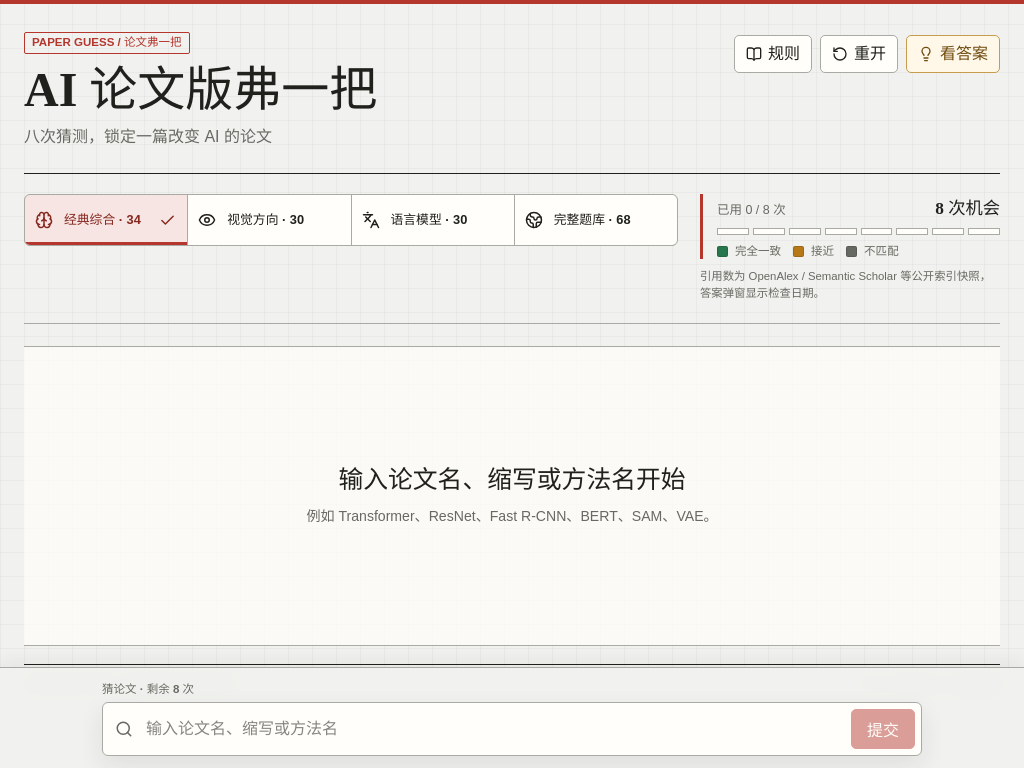
Test: GamePage › closes dialogs with Escape
Click the button "规则" at (773, 54), box [734,35,812,73]
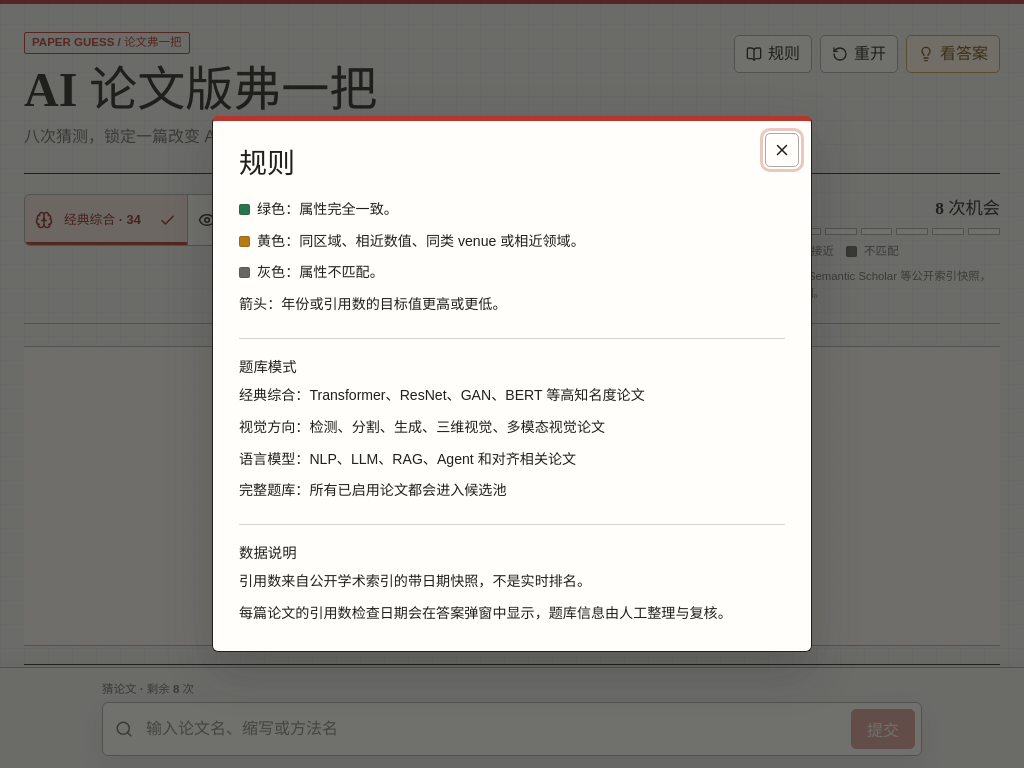
Check: the dialog named "游戏规则" is shown, box [212,116,812,652]
Press Escape
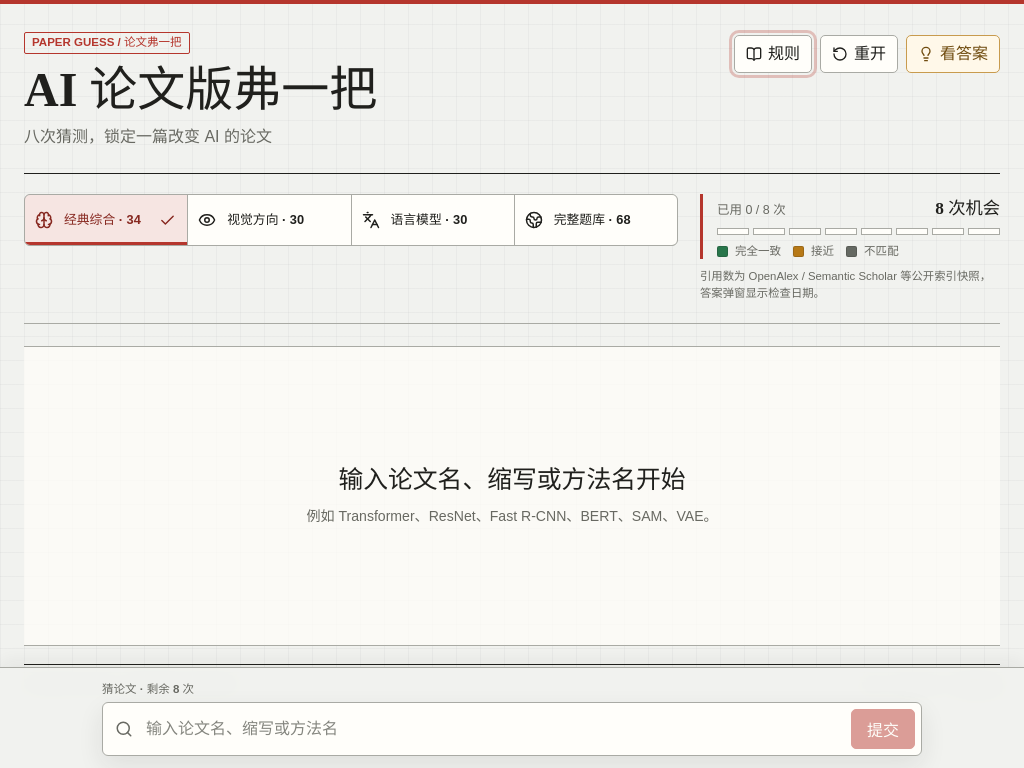
Check: the dialog "游戏规则" is gone
